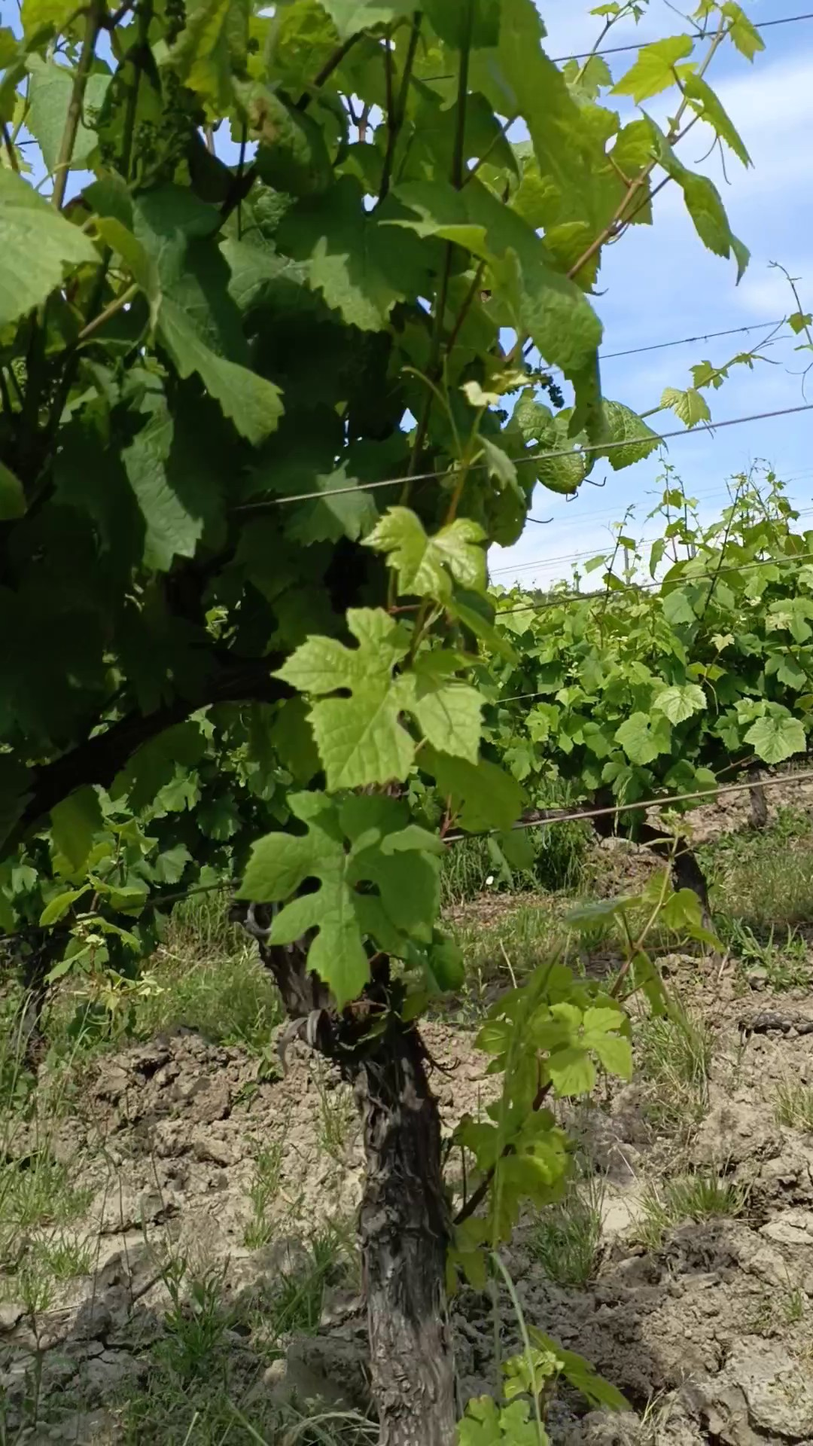vine_trunk: (235, 886, 455, 1445)
